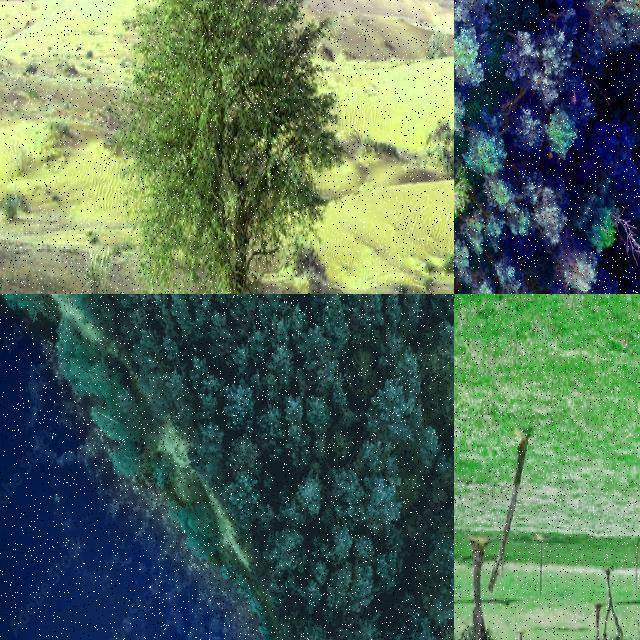tree: (120, 0, 340, 294), (454, 483, 489, 640), (453, 532, 502, 640), (454, 476, 486, 640), (363, 382, 421, 446), (454, 0, 506, 66), (454, 132, 486, 236), (454, 560, 494, 640), (536, 0, 584, 60), (462, 0, 530, 40), (454, 85, 491, 158), (262, 526, 312, 580), (505, 0, 547, 64), (454, 11, 484, 98), (467, 118, 505, 186), (426, 542, 454, 630), (454, 0, 490, 60), (366, 476, 402, 536), (252, 294, 304, 334), (454, 22, 486, 86), (368, 611, 438, 640), (578, 598, 626, 640), (454, 226, 482, 294), (588, 0, 632, 42), (454, 116, 478, 192), (574, 0, 630, 32), (454, 0, 478, 74), (454, 0, 506, 32), (324, 294, 350, 358), (292, 474, 326, 522), (225, 470, 255, 524), (454, 11, 478, 73), (454, 65, 474, 138), (454, 150, 474, 222), (454, 62, 478, 121), (454, 0, 491, 38), (454, 0, 472, 76), (454, 172, 478, 228), (226, 378, 254, 426), (454, 0, 490, 36), (454, 0, 478, 52), (412, 426, 443, 466), (596, 0, 640, 28), (454, 235, 478, 285), (454, 260, 486, 294), (454, 84, 472, 144), (454, 177, 472, 237), (454, 42, 474, 94), (309, 294, 346, 322), (454, 1, 478, 44), (454, 238, 472, 294), (312, 294, 343, 326), (454, 1, 482, 36), (402, 294, 426, 334), (454, 1, 478, 40), (454, 208, 474, 252), (454, 83, 470, 137), (454, 0, 474, 42), (454, 1, 478, 36), (426, 294, 454, 324), (362, 294, 382, 334), (454, 174, 472, 218), (454, 0, 474, 36), (454, 0, 474, 36), (404, 294, 428, 318), (350, 294, 370, 320), (454, 0, 472, 26), (454, 270, 472, 294), (454, 0, 471, 24), (454, 0, 474, 16)
